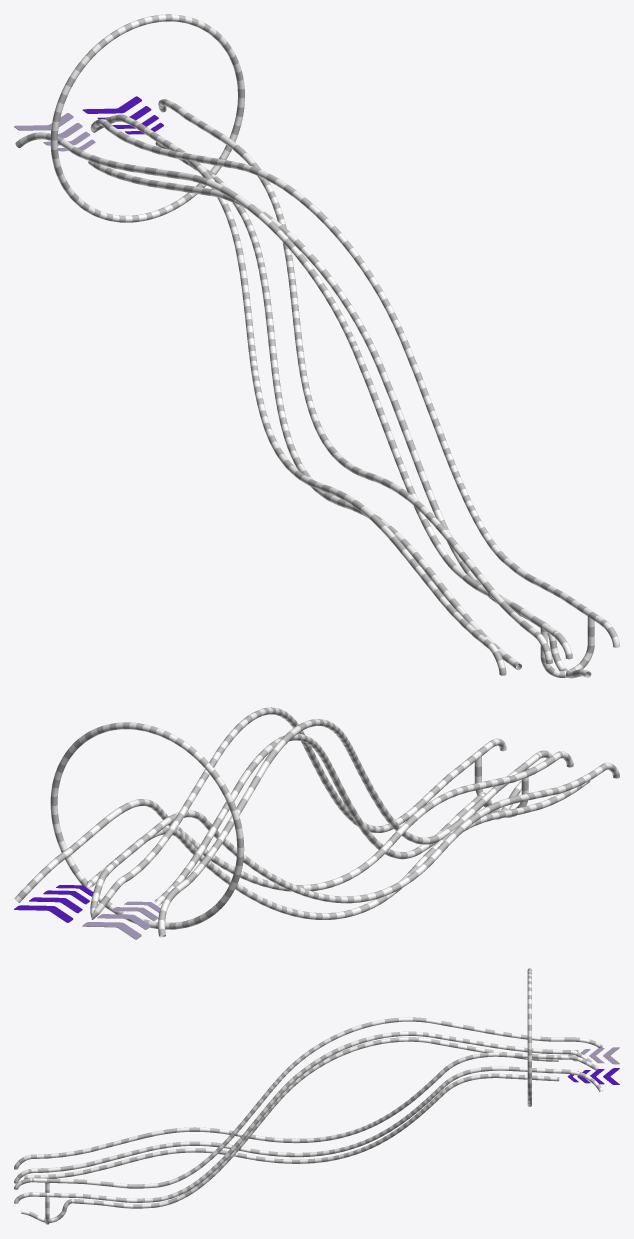
The model's file is 2RailDown.fbx.
3 views of the same model, one above another, from view 1: azimuth 30°, elevation 25°; view 2: azimuth 150°, elevation 25°; view 3: azimuth 270°, elevation 25° (orthographic). The views are drawn at different scales.
Parts seen in each view (by area): view 1: 2RailDown; view 2: 2RailDown; view 3: 2RailDown.
Part boxes in pixels (bbox=[...]): 2RailDown: bbox=[14, 14, 619, 678]; 2RailDown: bbox=[14, 707, 619, 939]; 2RailDown: bbox=[14, 968, 619, 1224].
Size of the model in its own units: 261 by 1140 by 495.
4 materials, 2 textured.
